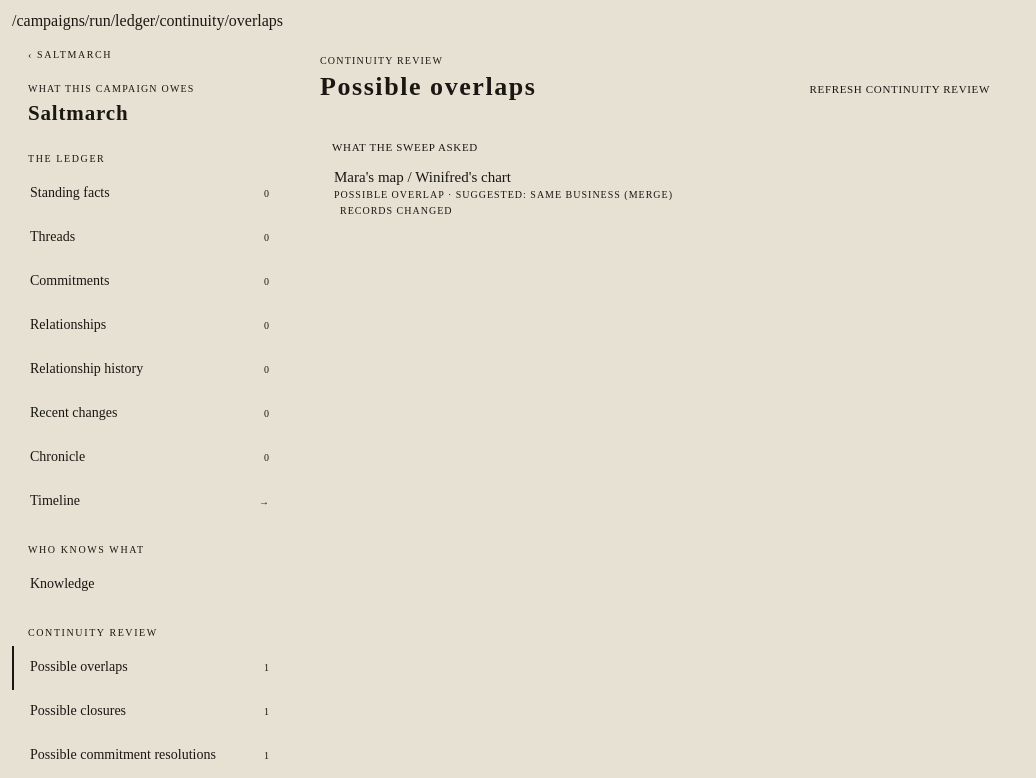
Test case: what the sweep asked is collapsed, and a row opens its capture read-only
This screenshot has width=1036, height=778.
Click the button "What the sweep asked" at coordinates (405, 147), box [320,135,490,159]
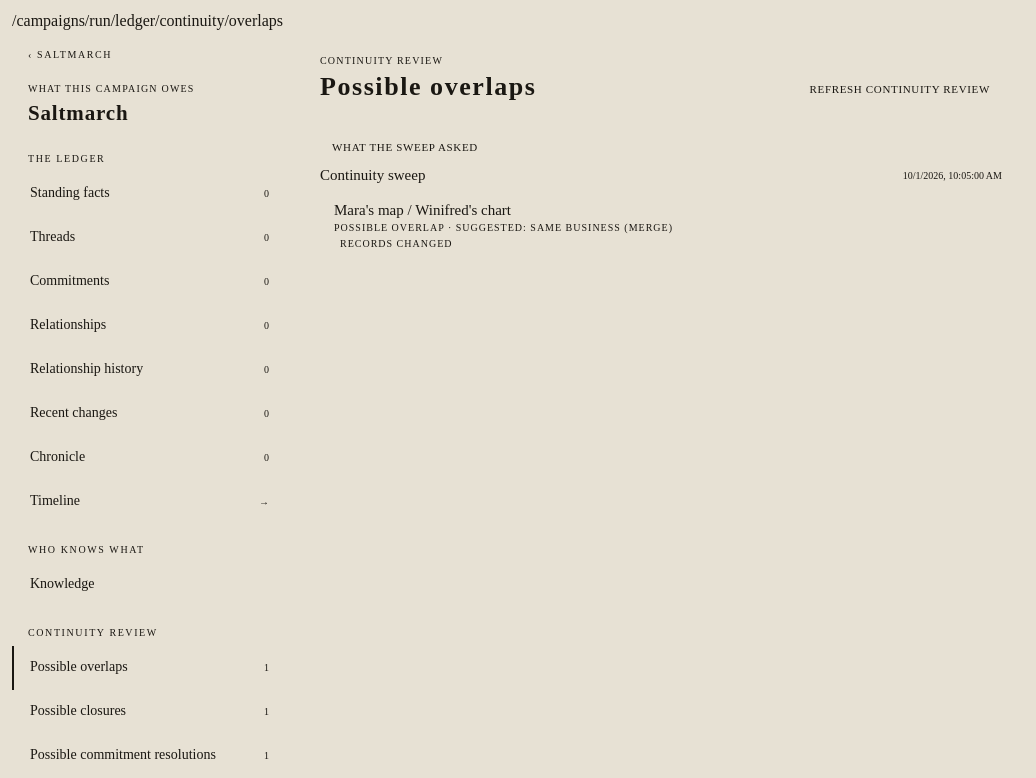
Click the button "Continuity sweep 10/1/2026, 10:05:00 AM" at coordinates (373, 175), box [320,159,1002,192]
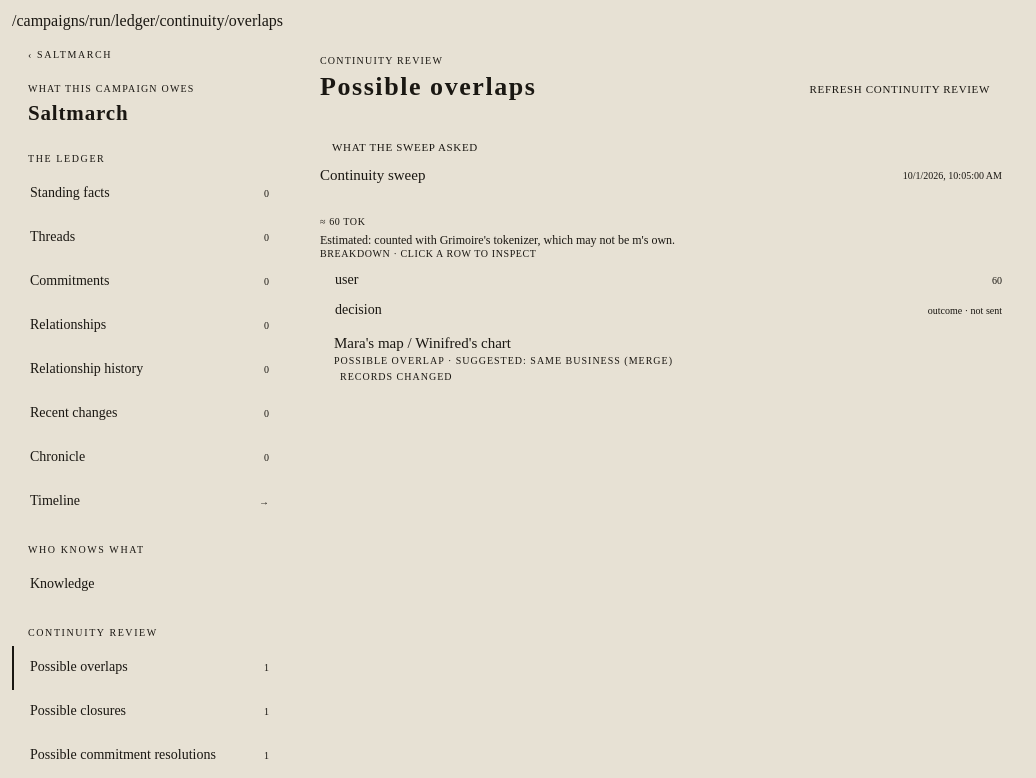
Result: the text "outcome · not sent" is shown at [928,305,1002,316]
